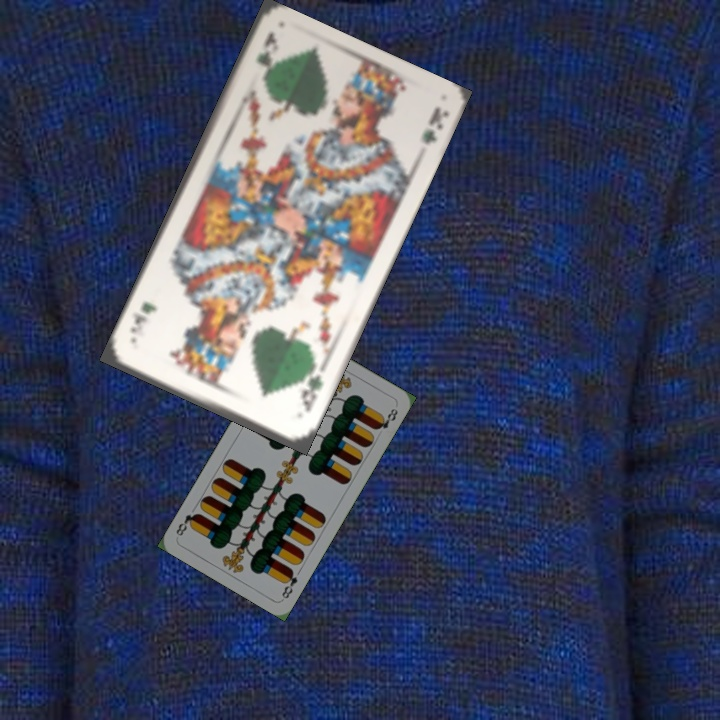E8: (278, 565, 300, 601)
GK: (252, 27, 281, 83), (297, 364, 325, 416)
